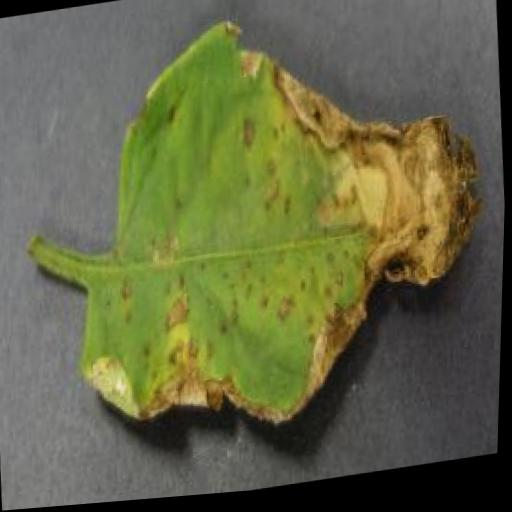Bacterial Spot: (41, 0, 510, 470)
